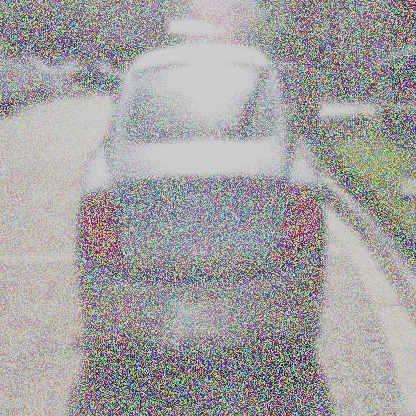Vehicle: (75, 40, 327, 378)
